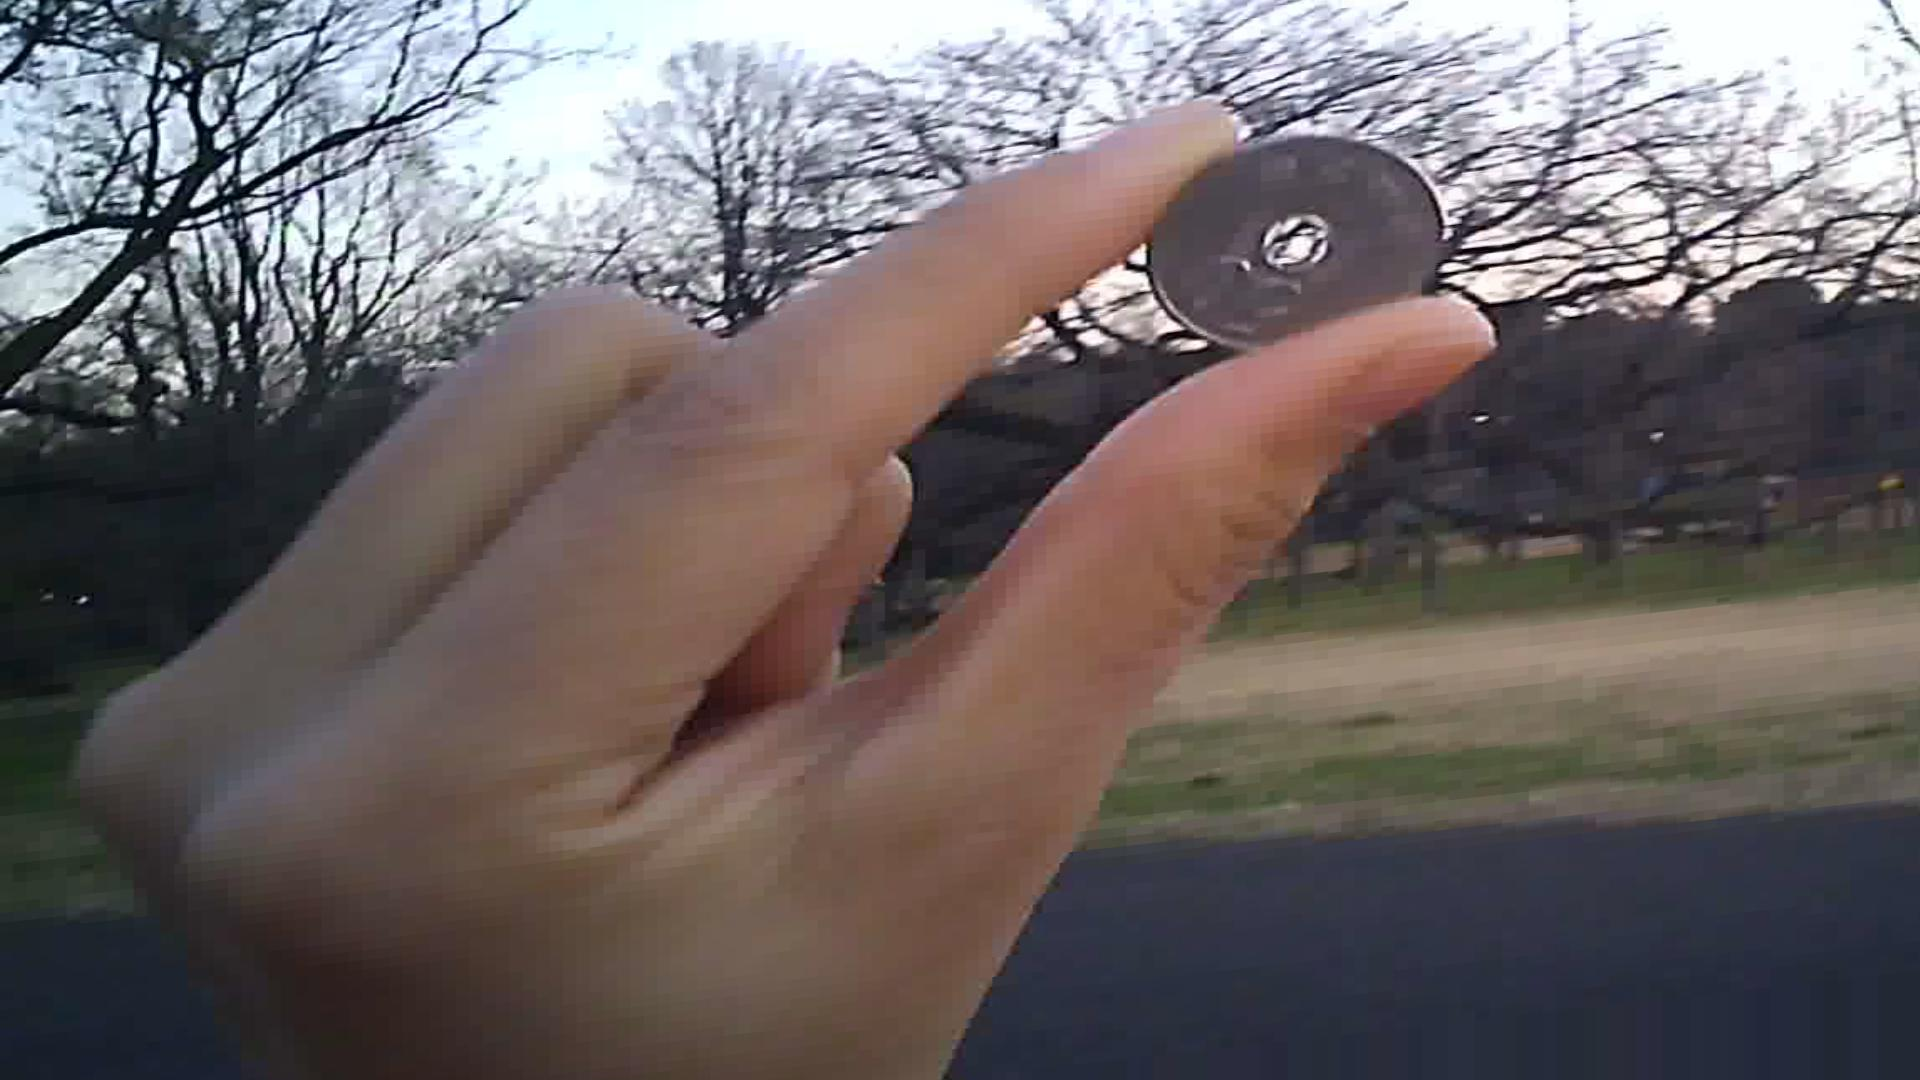50 Yen: (1143, 131, 1455, 357)
